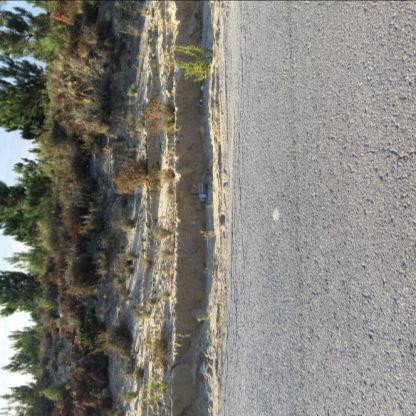Bottle cap: (198, 183, 207, 203), (198, 363, 202, 375)
Plastic bag - wrapper: (198, 99, 203, 106)
Unlabeled litter: (202, 85, 204, 91)
